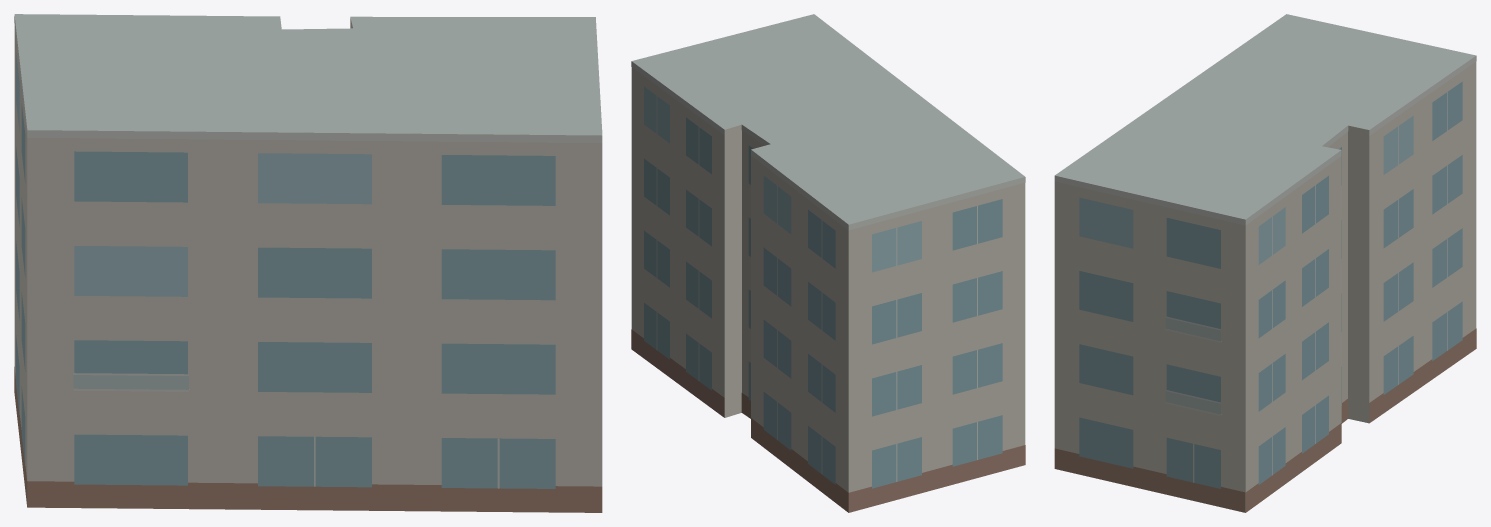
File: survey-upis-32645018.glb
3 renders of one model, left to right at view 1: azimuth 30°, elevation 25°; view 2: azimuth 150°, elevation 25°; view 3: azimuth 270°, elevation 25°, orthographic. The views are drawn at different scales.
Parts seen in each view (by area): view 1: survey-upis-32645018.tmp; view 2: survey-upis-32645018.tmp; view 3: survey-upis-32645018.tmp.
Boxes of the visible parts, box(x1,y1,x2,y2) form: survey-upis-32645018.tmp: box(14, 14, 602, 512); survey-upis-32645018.tmp: box(631, 14, 1025, 512); survey-upis-32645018.tmp: box(1054, 14, 1476, 512).
Size of the model in its own units: 18.35 by 12.2 by 15.91.
